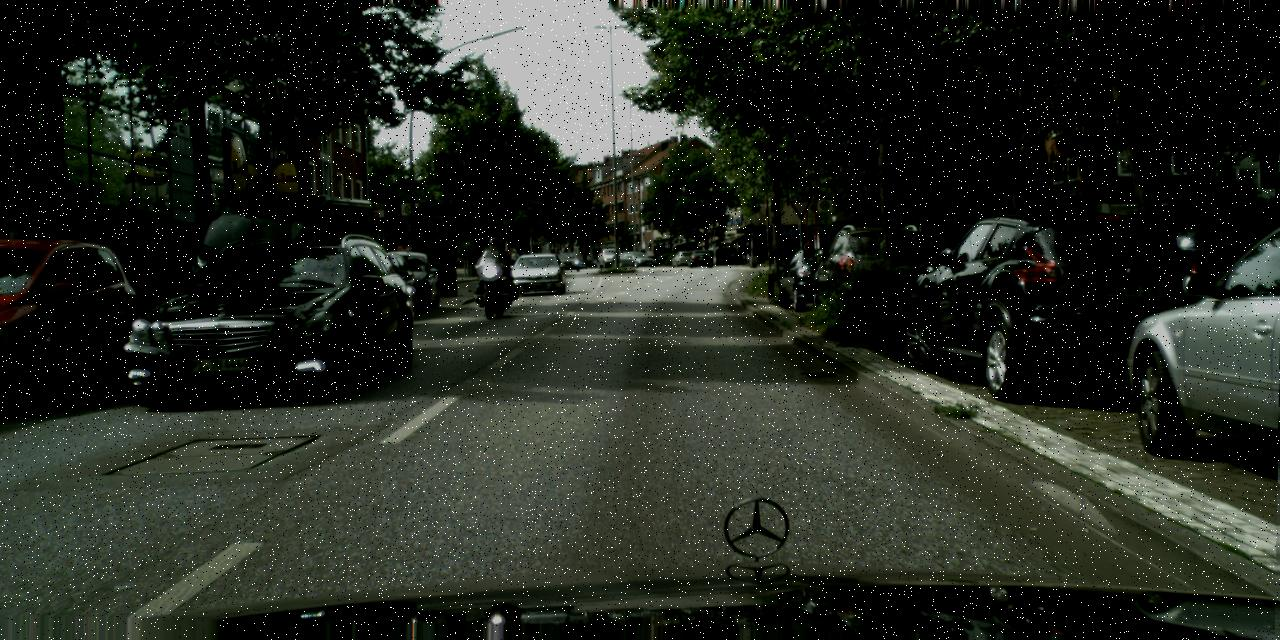ped: (480, 236, 505, 298), (488, 242, 511, 299), (400, 245, 409, 268), (509, 248, 519, 261), (554, 248, 560, 263), (729, 251, 734, 263)
